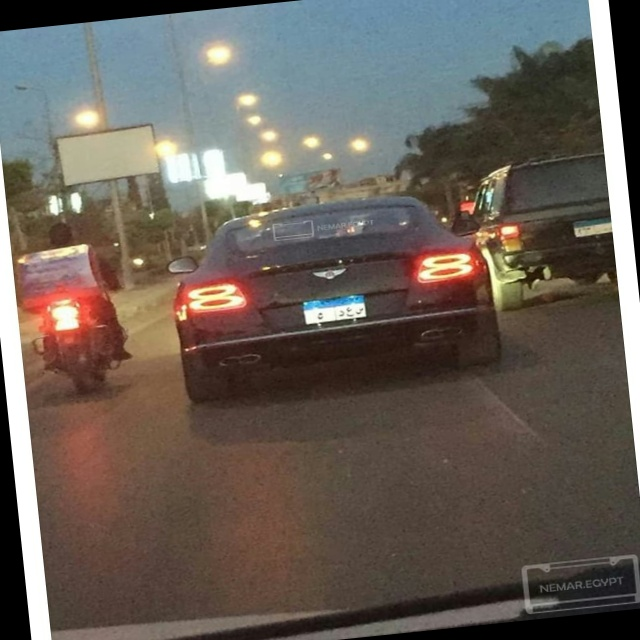License Plate: (300, 293, 370, 326)
